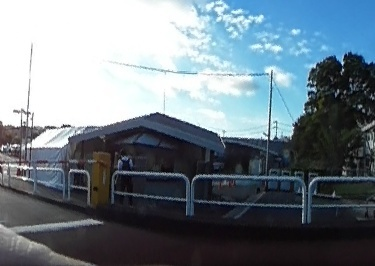person: (115, 147, 133, 202)
